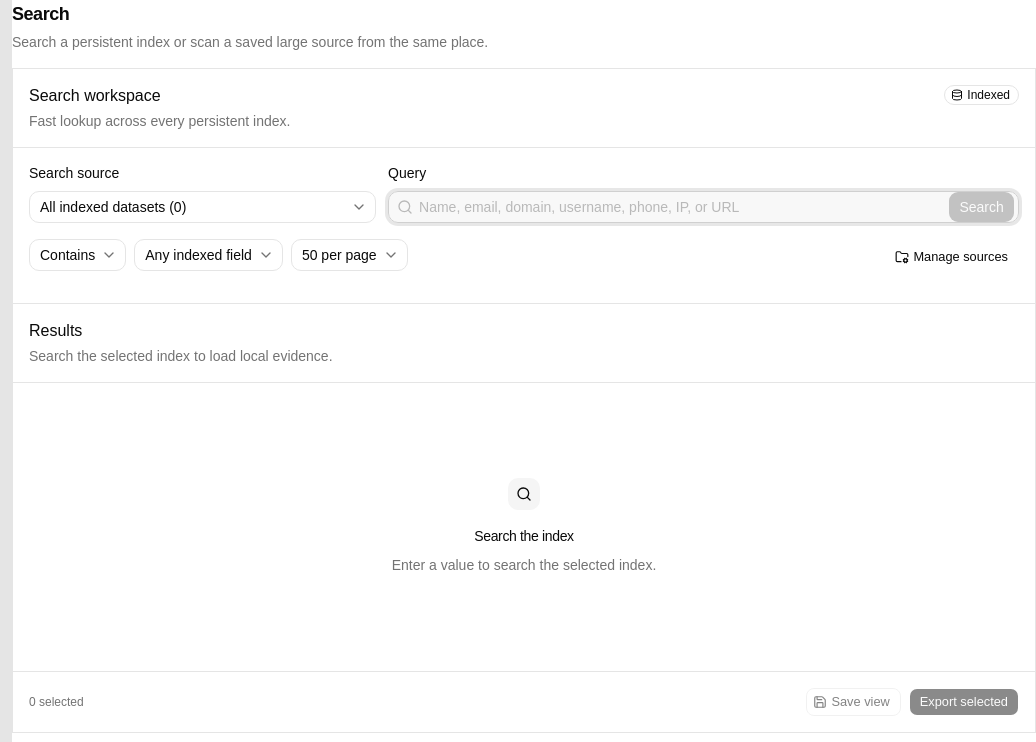
Scenario: SearchPage query composer › uses a compact input and submits an indexed query with Enter
Type "zzzz-not-present" into the field named "Search query". click: [681, 207]
box: x1=413 y1=191 x2=948 y2=223
Then press Enter
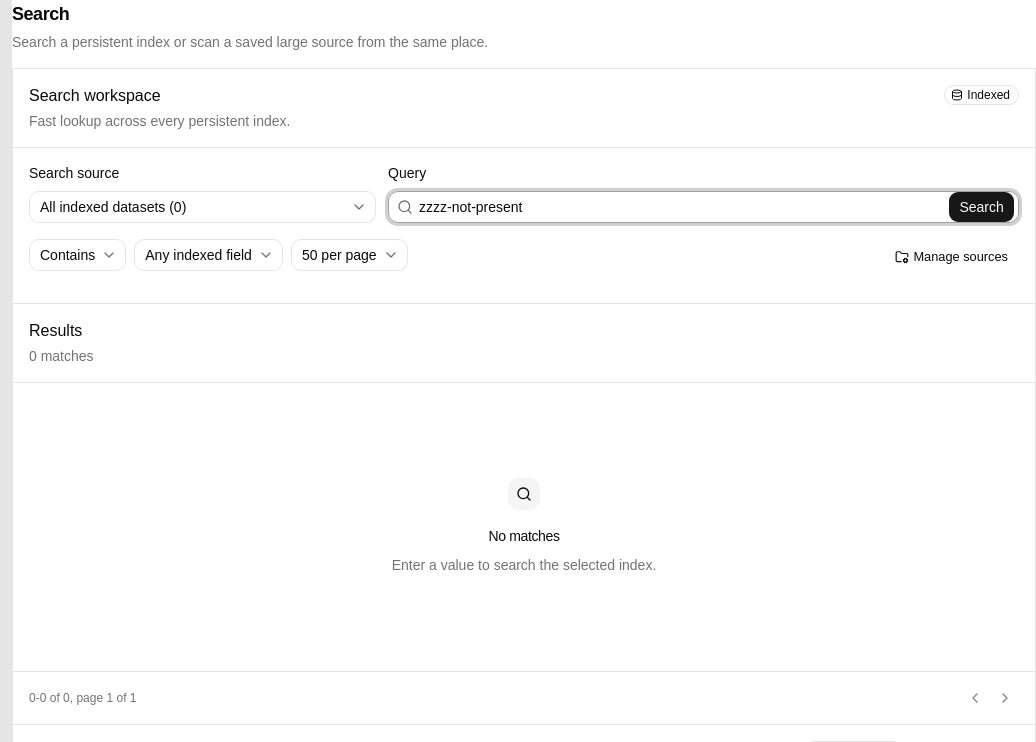
expect the text "No matches" is shown: met, box x1=488 y1=526 x2=560 y2=546
